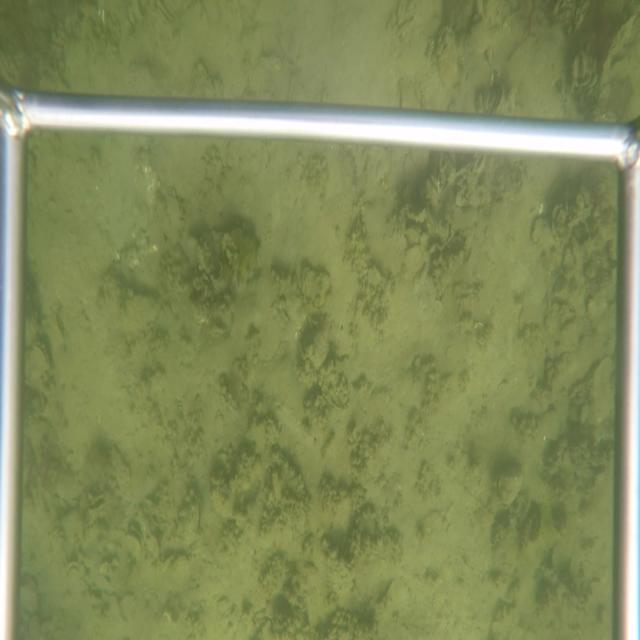Oyster-Closed: (299, 265, 335, 314), (405, 223, 422, 244)
Oyster-Indeterminate: (24, 342, 49, 383)
Oyster-Open: (492, 467, 524, 509), (125, 525, 143, 561)
